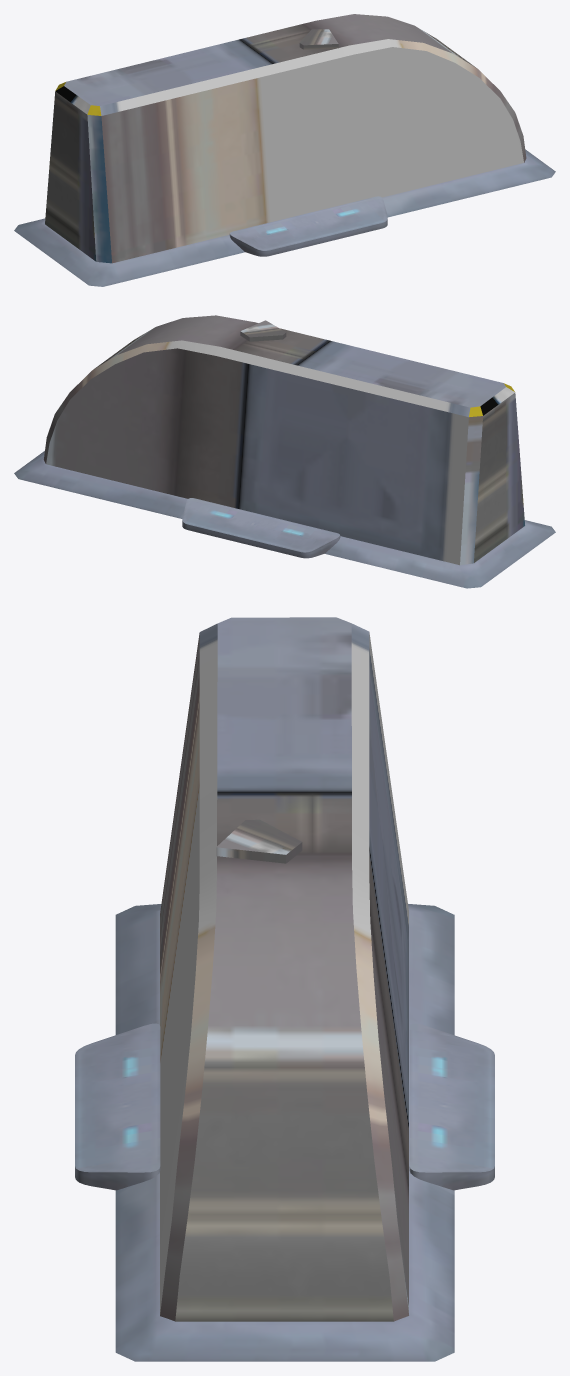
File: pref_sm_beach_winter_icewall04_lv3.fbx
3 renders of one model, top to bottom at view 1: azimuth 30°, elevation 25°; view 2: azimuth 150°, elevation 25°; view 3: azimuth 270°, elevation 25°, orthographic. The views are drawn at different scales.
Parts seen in each view (by area): view 1: pref_sm_beach_winter_icewall04_lv3; view 2: pref_sm_beach_winter_icewall04_lv3; view 3: pref_sm_beach_winter_icewall04_lv3.
Part boxes in pixels (<box>): pref_sm_beach_winter_icewall04_lv3: <box>14,14,555,286</box>; pref_sm_beach_winter_icewall04_lv3: <box>14,315,555,588</box>; pref_sm_beach_winter_icewall04_lv3: <box>75,617,494,1361</box>.
Size of the model in its own units: 5.45 by 1.79 by 2.12.
